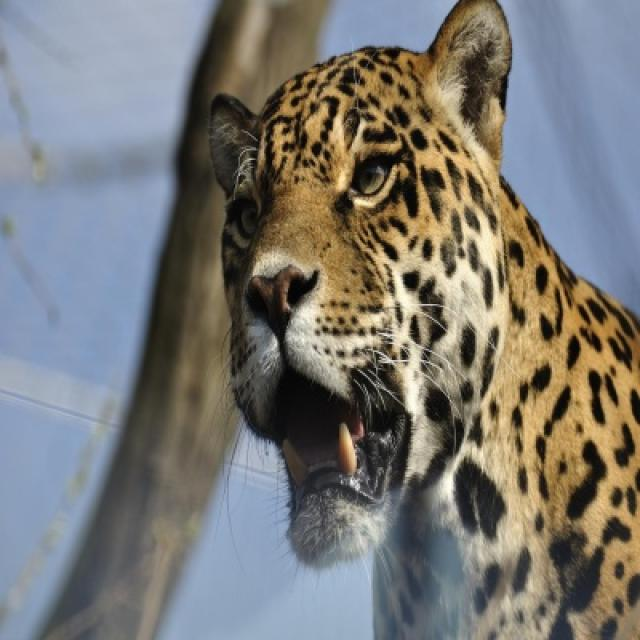Jaguar: (208, 0, 638, 638)
